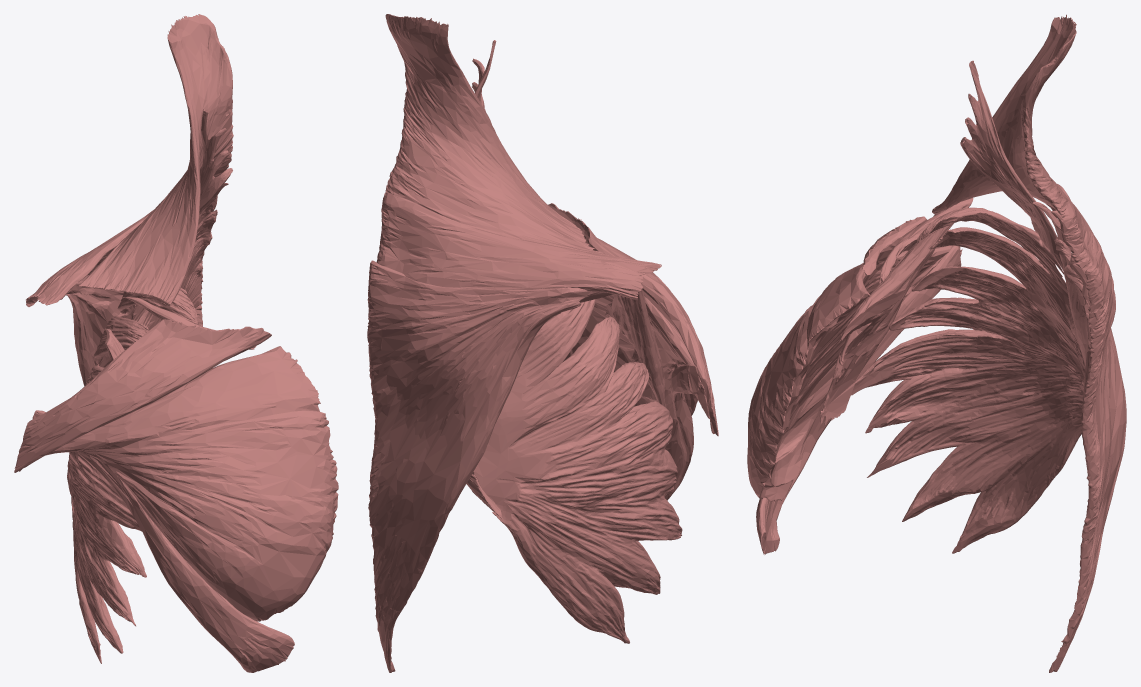
Rendered from shoulder-girdle-muscle.glb.
The picture shows the model from 3 angles, left to right: view 1: azimuth 30°, elevation 25°; view 2: azimuth 150°, elevation 25°; view 3: azimuth 270°, elevation 25°; orthographic projection. The views are drawn at different scales.
Parts seen in each view (by area): view 1: pectoralis-major-sternocostal-head__BP5613, trapezius__BP5636, pectoralis-major-clavicular-head__BP5582, serratus-anterior__BP4782, pectoralis-major__BP5615, trapezius__BP5638, trapezius__BP5610, rhomboid-major__BP4780, levator-scapulae__BP4786, subclavius__BP4773; view 2: serratus-anterior__BP4782, trapezius__BP5638, trapezius__BP5636, trapezius__BP5610, pectoralis-major-sternocostal-head__BP5613, pectoralis-major-clavicular-head__BP5582, pectoralis-minor__BP4775, pectoralis-major__BP5615; view 3: serratus-anterior__BP4782, pectoralis-major-sternocostal-head__BP5613, trapezius__BP5638, trapezius__BP5636, pectoralis-minor__BP4775, levator-scapulae__BP4786, pectoralis-major__BP5615, trapezius__BP5610, rhomboid-major__BP4780, pectoralis-major-clavicular-head__BP5582, subclavius__BP4773.
Part boxes in pixels (bbox=[...]): pectoralis-major-sternocostal-head__BP5613: bbox=[40, 346, 338, 621]; trapezius__BP5636: bbox=[78, 14, 233, 305]; pectoralis-major-clavicular-head__BP5582: bbox=[14, 319, 271, 472]; serratus-anterior__BP4782: bbox=[67, 288, 197, 663]; pectoralis-major__BP5615: bbox=[32, 410, 294, 672]; trapezius__BP5638: bbox=[66, 260, 203, 386]; trapezius__BP5610: bbox=[26, 195, 217, 306]; rhomboid-major__BP4780: bbox=[136, 209, 217, 330]; levator-scapulae__BP4786: bbox=[199, 108, 232, 211]; subclavius__BP4773: bbox=[123, 297, 256, 349]; serratus-anterior__BP4782: bbox=[474, 299, 682, 643]; trapezius__BP5638: bbox=[367, 260, 613, 672]; trapezius__BP5636: bbox=[384, 14, 609, 255]; trapezius__BP5610: bbox=[368, 192, 661, 317]; pectoralis-major-sternocostal-head__BP5613: bbox=[563, 294, 709, 442]; pectoralis-major-clavicular-head__BP5582: bbox=[548, 203, 718, 436]; pectoralis-minor__BP4775: bbox=[605, 289, 666, 407]; pectoralis-major__BP5615: bbox=[664, 363, 699, 500]; serratus-anterior__BP4782: bbox=[851, 207, 1085, 553]; pectoralis-major-sternocostal-head__BP5613: bbox=[747, 245, 962, 501]; trapezius__BP5638: bbox=[1046, 184, 1126, 672]; trapezius__BP5636: bbox=[932, 14, 1076, 217]; pectoralis-minor__BP4775: bbox=[819, 210, 953, 425]; levator-scapulae__BP4786: bbox=[960, 60, 1063, 270]; pectoralis-major__BP5615: bbox=[756, 245, 961, 554]; trapezius__BP5610: bbox=[1051, 178, 1105, 320]; rhomboid-major__BP4780: bbox=[1054, 238, 1091, 391]; pectoralis-major-clavicular-head__BP5582: bbox=[862, 216, 948, 275]; subclavius__BP4773: bbox=[878, 198, 973, 284].
Size of the model in its own units: 1.98 by 4.52 by 2.44.
